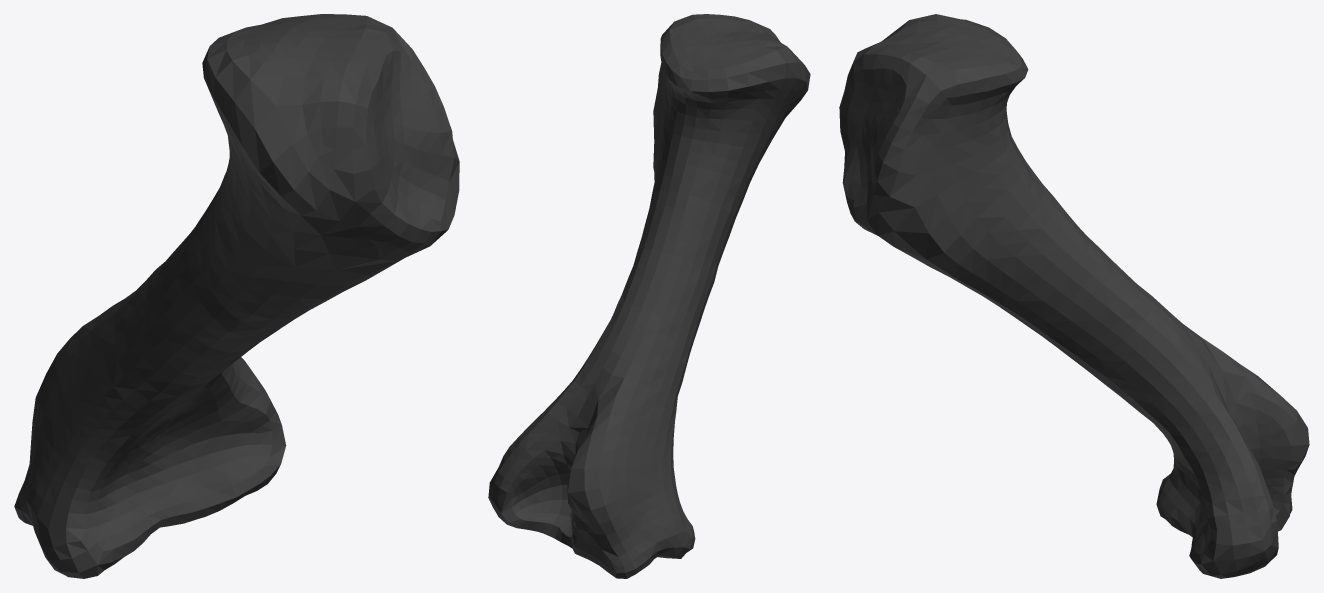
The model's file is LFL_humerus_main.glb.
3 views of the same model, side by side, from view 1: azimuth 30°, elevation 25°; view 2: azimuth 150°, elevation 25°; view 3: azimuth 270°, elevation 25° (orthographic). The views are drawn at different scales.
Parts seen in each view (by area): view 1: LFL_humerus_main; view 2: LFL_humerus_main; view 3: LFL_humerus_main.
Boxes of the visible parts, x1,y1,x2,y2 form: LFL_humerus_main: [14, 14, 459, 578]; LFL_humerus_main: [488, 14, 810, 578]; LFL_humerus_main: [839, 14, 1309, 578].
Size of the model in its own units: 17.87 by 41.81 by 34.8.
Materials: 1 (1 with a texture image).
